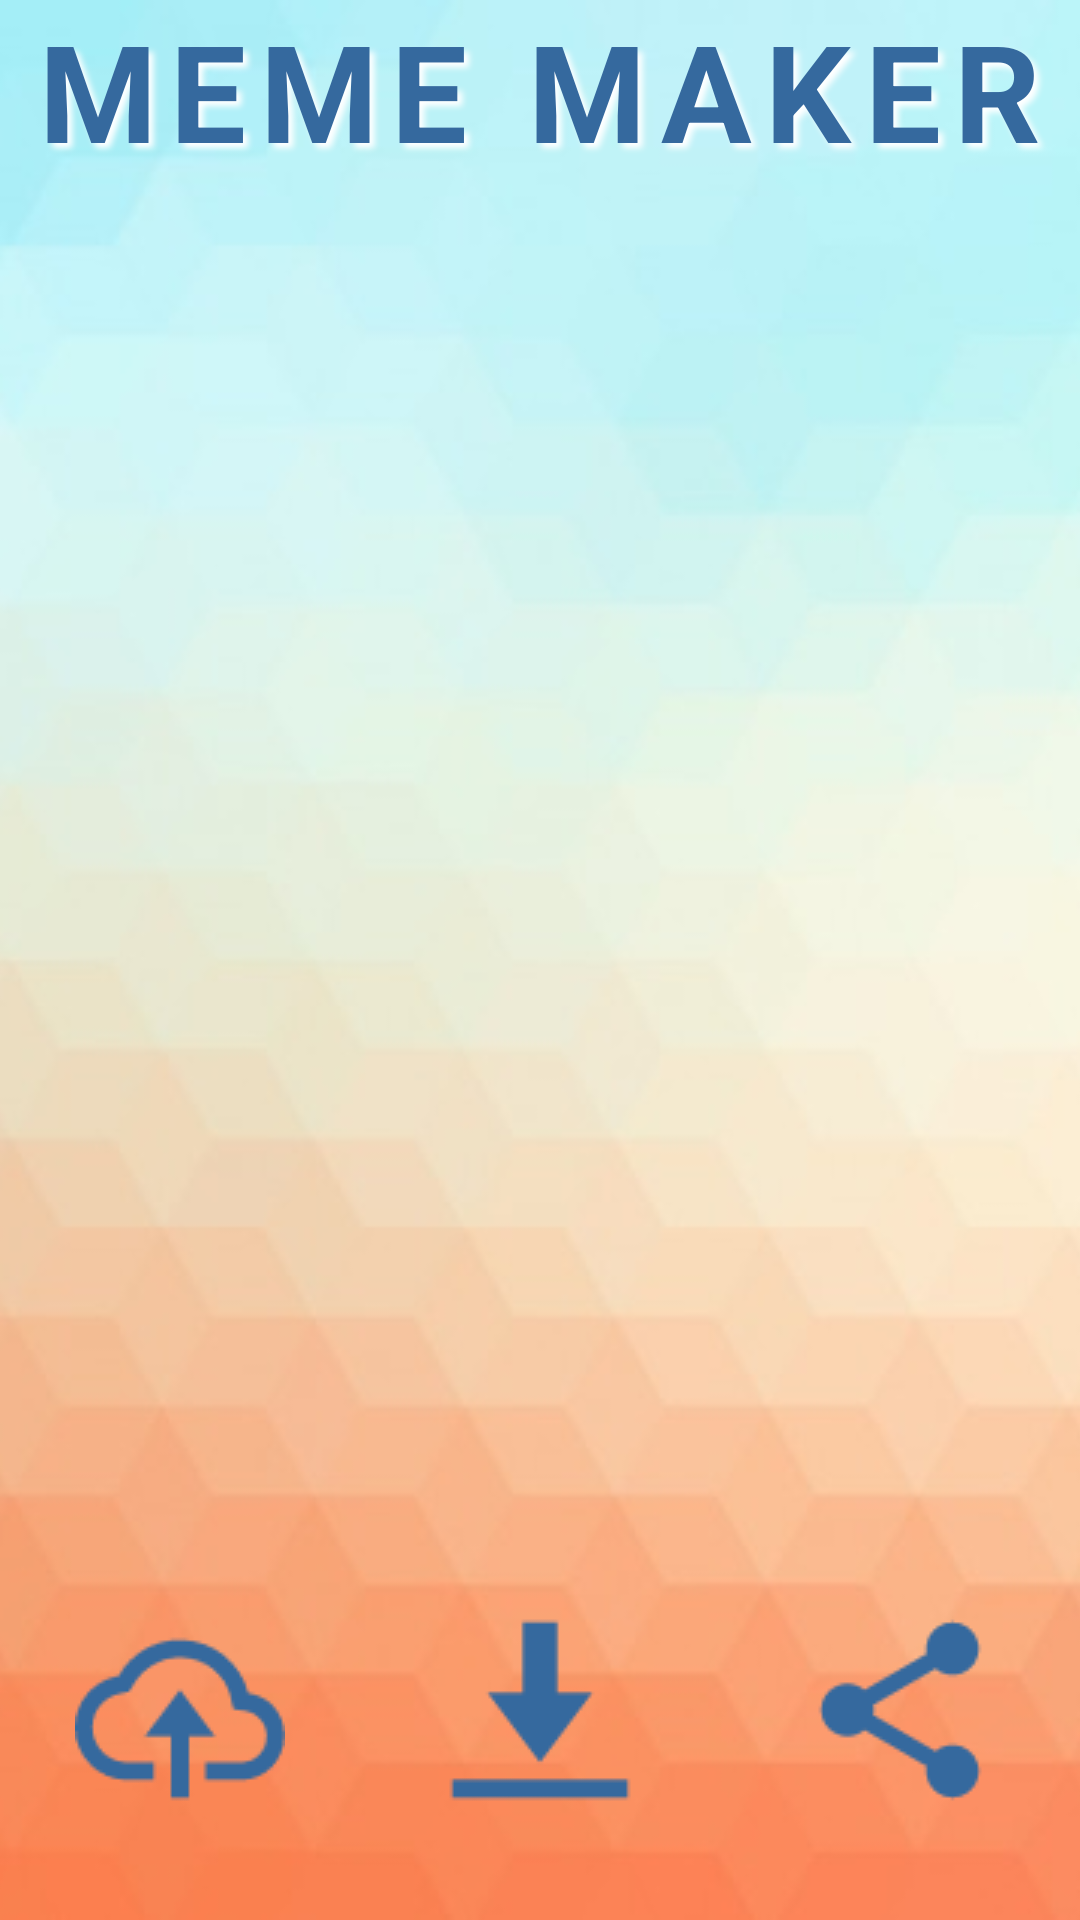

Icon bounding boxes for this 1080 x 1920 phone screenshot, format Rect(x1, y1, x2, y2):
cloud: Rect(0, 1605, 285, 1801)
download: Rect(450, 1620, 630, 1800)
share: Rect(795, 1605, 1080, 1815)
